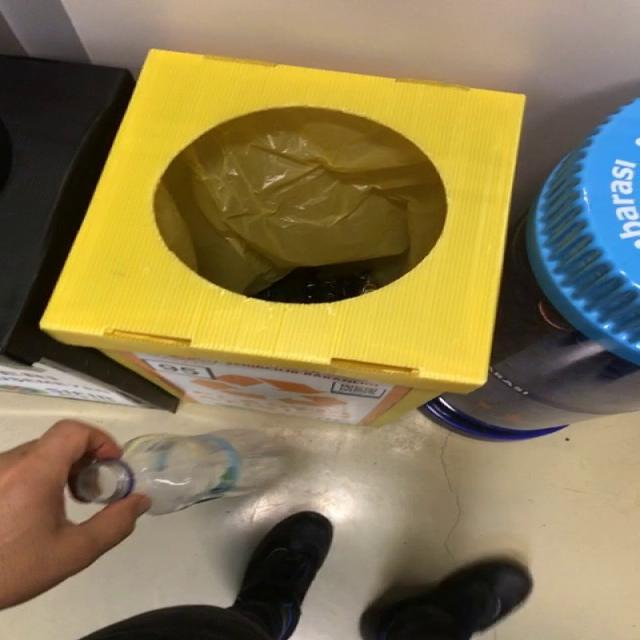plastic: (68, 430, 284, 516)
